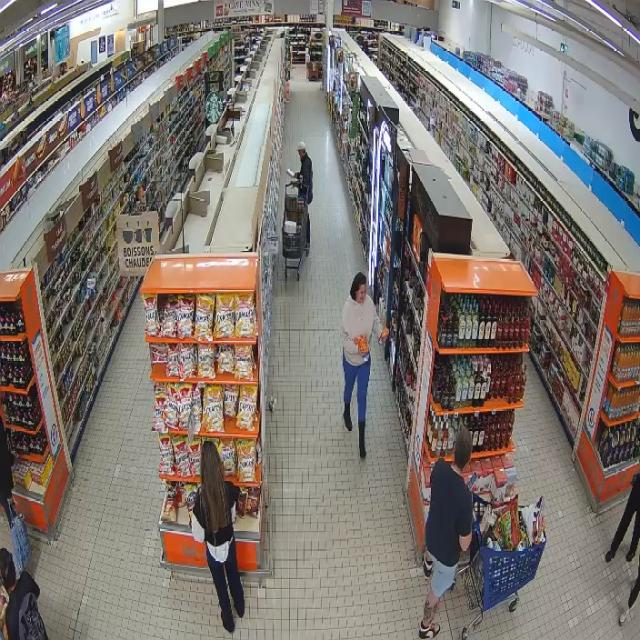article: (353, 334, 370, 352), (380, 327, 390, 338), (286, 168, 294, 179)
bags: (10, 505, 31, 575)
person: (420, 427, 472, 638), (192, 441, 244, 633), (341, 273, 388, 457), (0, 548, 48, 639), (606, 474, 639, 562), (0, 424, 14, 521), (296, 142, 312, 205)
